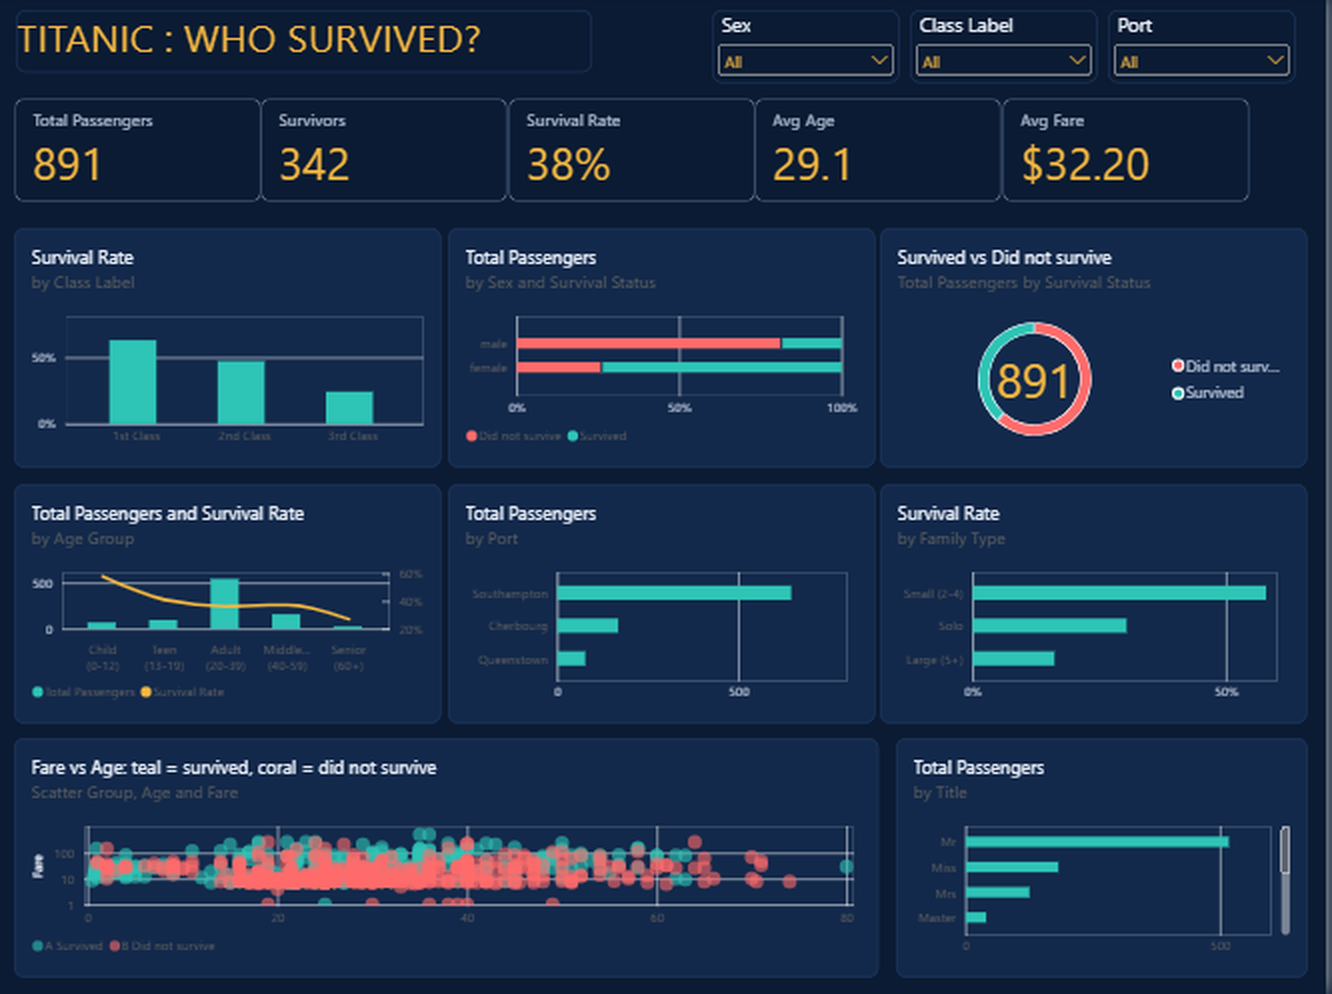

The page's visual inventory and layout, read from the dashboard file:
{"tool":"powerbi","page":{"name":"Page 1","canvas":[1280,960],"ordinal":0},"visuals":[{"type":"cardVisual","fields":{"Data":["Titanic.Total Passengers"]},"box":[20,100,238,100],"z":0},{"type":"cardVisual","fields":{"Data":["Titanic.Survival Rate"]},"box":[492.5,100,238,100],"z":1000},{"type":"cardVisual","fields":{"Data":["Titanic.Survivors"]},"box":[254.9,100,238,100],"z":2000},{"type":"cardVisual","fields":{"Data":["Titanic.Avg Age"]},"box":[730.1,100,238,100],"z":3000},{"type":"cardVisual","fields":{"Data":["Titanic.Avg Fare"]},"box":[967.7,100,238,100],"z":4000},{"type":"textbox","box":[20.2,14.4,553,60.5],"z":5000},{"type":"slicer","fields":{"Values":["Titanic.Sex"]},"box":[690,15,180,70],"z":6000},{"type":"slicer","fields":{"Values":["Titanic.Class Label"]},"box":[880,15,180,70],"z":7000},{"type":"slicer","fields":{"Values":["Titanic.Port"]},"box":[1070,15,180,70],"z":8000},{"type":"clusteredColumnChart","fields":{"Category":["Titanic.Class Label"],"Y":["Titanic.Survival Rate"]},"box":[20,225,410,230],"z":9000},{"type":"hundredPercentStackedBarChart","fields":{"Category":["Titanic.Sex"],"Series":["Titanic.Survival Status"],"Y":["Titanic.Total Passengers"]},"box":[435,225,410,230],"z":10000},{"type":"donutChart","title":" Survived vs Did not survive","fields":{"Category":["Titanic.Survival Status"],"Y":["Titanic.Total Passengers"]},"box":[850,225,410,230],"z":11000},{"type":"lineClusteredColumnComboChart","fields":{"Category":["Titanic.Age Group"],"Y":["Titanic.Total Passengers"],"Y2":["Titanic.Survival Rate"]},"box":[20,470,410,230],"z":12000},{"type":"clusteredBarChart","fields":{"Category":["Titanic.Port"],"Y":["Titanic.Total Passengers"]},"box":[435,470,410,230],"z":13000},{"type":"clusteredBarChart","fields":{"Category":["Titanic.Family Type"],"Y":["Titanic.Survival Rate"]},"box":[850,470,410,230],"z":14000},{"type":"scatterChart","title":"Fare vs Age: teal = survived, coral = did not survive","fields":{"Series":["Titanic.Scatter Group"],"X":["Titanic.Age"],"Y":["Titanic.Fare"]},"box":[20,715,830,230],"z":15000},{"type":"clusteredBarChart","fields":{"Category":["Titanic.Title"],"Y":["Titanic.Total Passengers"]},"box":[865,715,395,230],"z":16000}]}

Visuals, with their boxes in screenshot pixels (x1, y1, x2, y2), scaled from the page's 1280x960 canvas onto the 1332x994 screenshot:
cardVisual - Titanic.Total Passengers: crop(21, 104, 268, 207)
cardVisual - Titanic.Survival Rate: crop(513, 104, 760, 207)
cardVisual - Titanic.Survivors: crop(265, 104, 513, 207)
cardVisual - Titanic.Avg Age: crop(760, 104, 1007, 207)
cardVisual - Titanic.Avg Fare: crop(1007, 104, 1255, 207)
textbox: crop(21, 15, 596, 78)
slicer - Titanic.Sex: crop(718, 16, 905, 88)
slicer - Titanic.Class Label: crop(916, 16, 1103, 88)
slicer - Titanic.Port: crop(1113, 16, 1301, 88)
clusteredColumnChart - Titanic.Class Label x Titanic.Survival Rate: crop(21, 233, 447, 471)
hundredPercentStackedBarChart - Titanic.Sex x Titanic.Survival Status: crop(453, 233, 879, 471)
" Survived vs Did not survive" donutChart: crop(885, 233, 1311, 471)
lineClusteredColumnComboChart - Titanic.Age Group x Titanic.Total Passengers: crop(21, 487, 447, 725)
clusteredBarChart - Titanic.Port x Titanic.Total Passengers: crop(453, 487, 879, 725)
clusteredBarChart - Titanic.Family Type x Titanic.Survival Rate: crop(885, 487, 1311, 725)
"Fare vs Age: teal = survived, coral = did not survive" scatterChart: crop(21, 740, 885, 978)
clusteredBarChart - Titanic.Title x Titanic.Total Passengers: crop(900, 740, 1311, 978)
